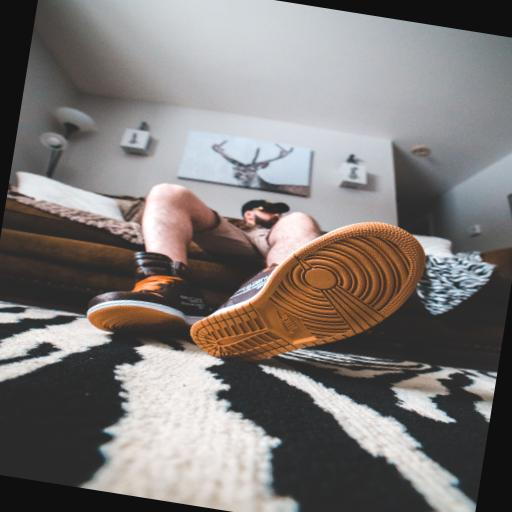shoe: (190, 223, 424, 361), (86, 252, 207, 333)
